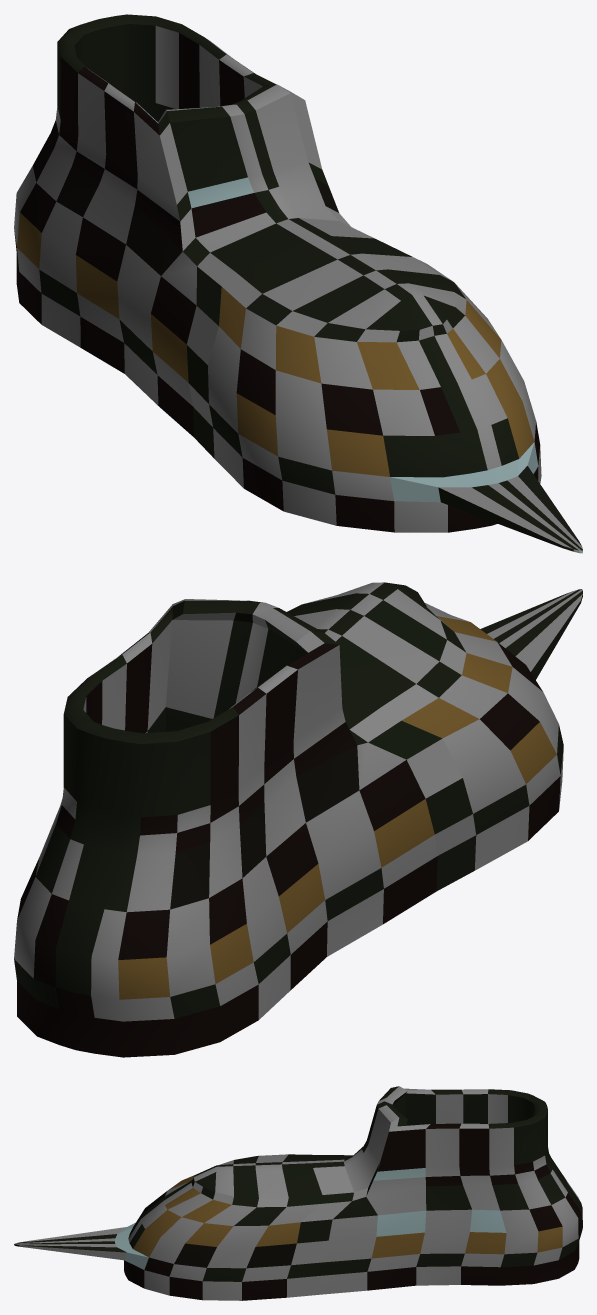
The model's file is ShoeLKnifeChuck.fbx.
The picture shows the model from 3 angles, top to bottom: view 1: azimuth 30°, elevation 25°; view 2: azimuth 150°, elevation 25°; view 3: azimuth 270°, elevation 25°; orthographic projection. The views are drawn at different scales.
Visible parts, largest first — view 1: Shoe_R001; view 2: Shoe_R001; view 3: Shoe_R001.
Boxes of the visible parts, x1,y1,x2,y2 form: Shoe_R001: (14, 14, 582, 553); Shoe_R001: (14, 582, 582, 1057); Shoe_R001: (14, 1086, 582, 1300).
Bounding box in the file's own units: 26.74 × 26.77 × 86.92.
